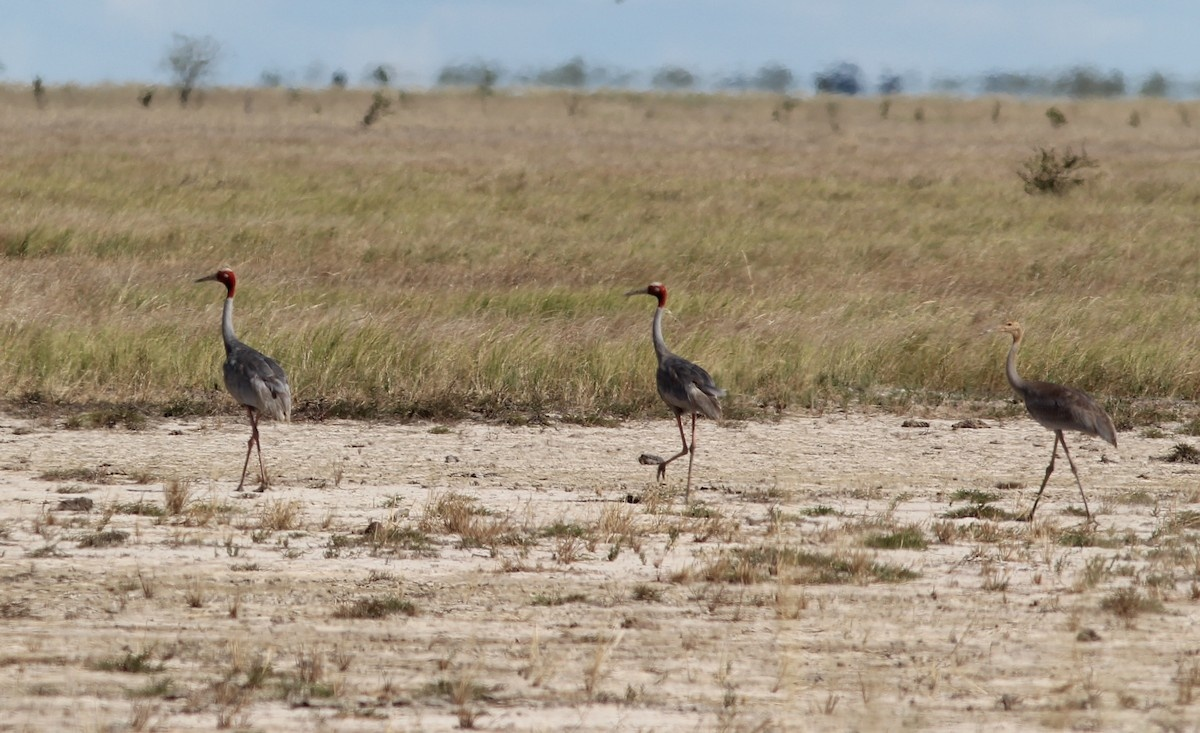crane: (983, 314, 1123, 533), (189, 263, 309, 490), (623, 273, 723, 501)
